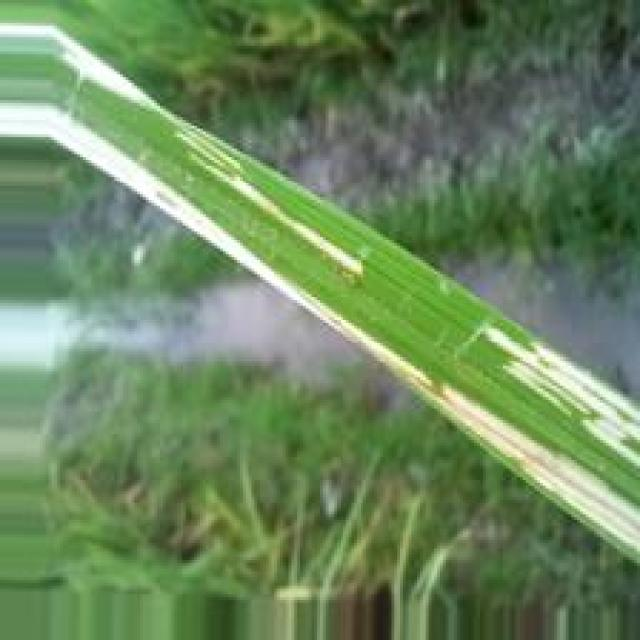Rice_Hispa: (0, 103, 640, 558), (0, 22, 369, 281), (496, 327, 640, 473)
